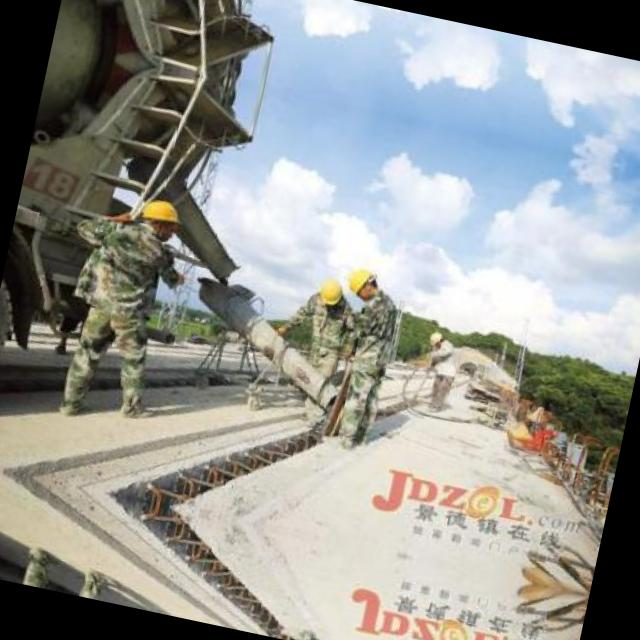helmet: (339, 256, 386, 304), (134, 196, 184, 240), (313, 270, 346, 312), (423, 327, 445, 349)
